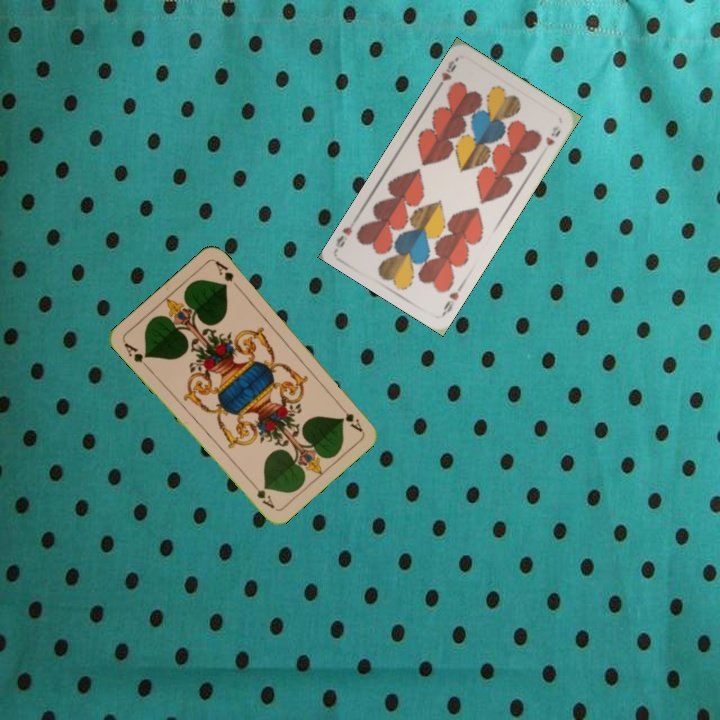GA: (335, 400, 365, 435), (120, 338, 151, 371)
H9: (438, 281, 466, 318), (433, 55, 460, 91)
